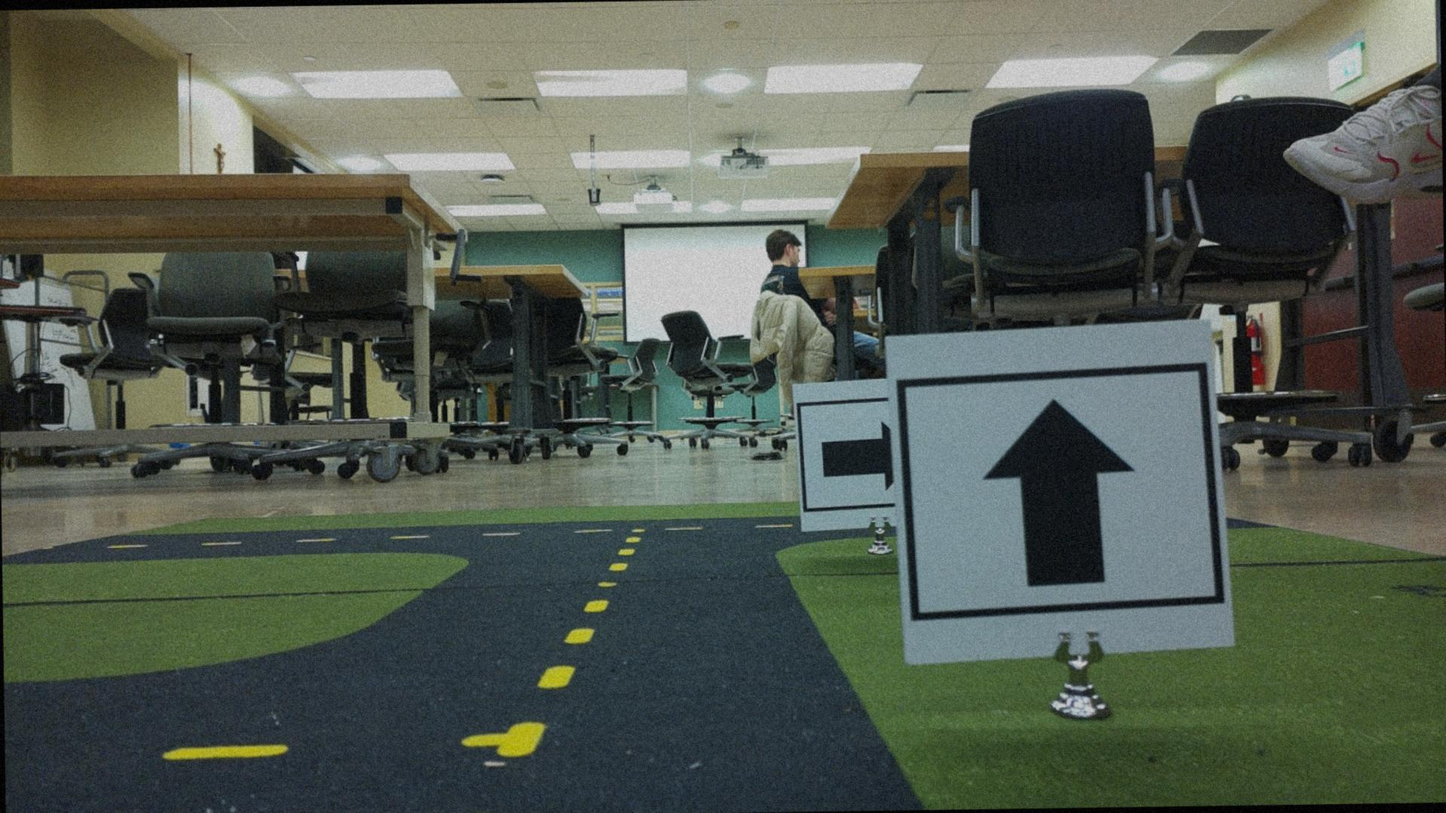gostraight: (905, 334, 1211, 683)
yellowline: (498, 525, 648, 763)
